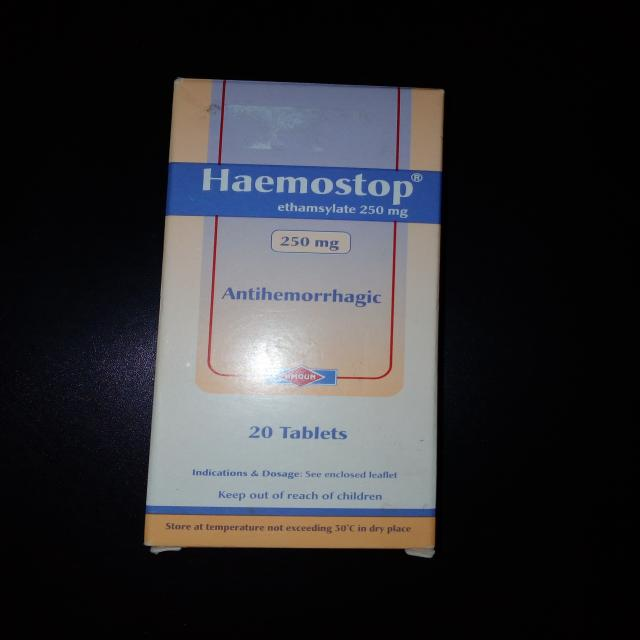Medicine: (138, 72, 446, 558)
